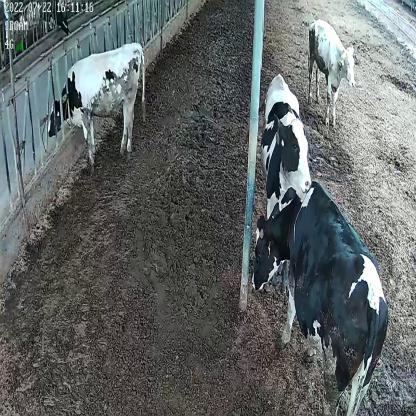cow: (250, 180, 390, 416), (47, 40, 148, 170), (261, 69, 313, 220), (306, 17, 358, 134)
